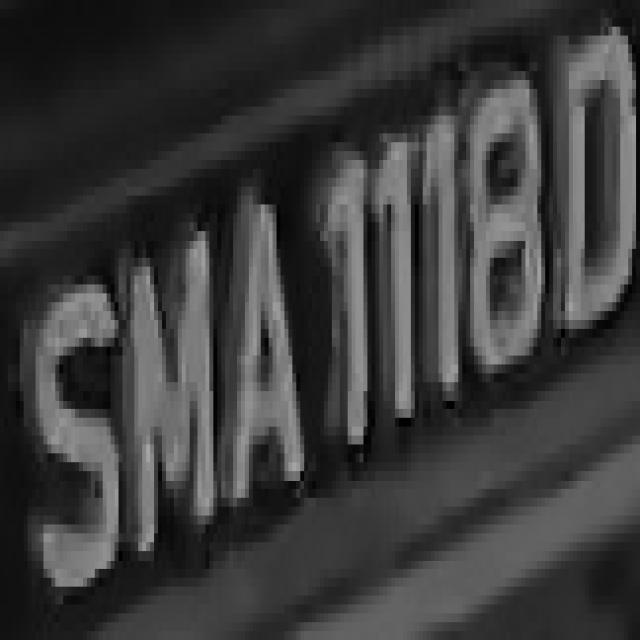1: (360, 107, 422, 480), (411, 80, 474, 444), (324, 133, 375, 498)
8: (466, 89, 549, 400)
A: (225, 178, 316, 533)
D: (549, 18, 640, 329)
M: (126, 213, 222, 578)
S: (20, 258, 126, 613)
